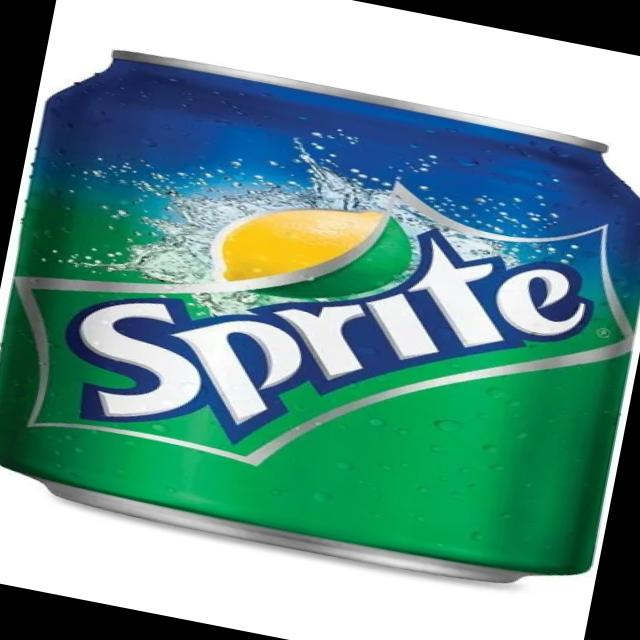sprite: (0, 18, 640, 640), (0, 36, 640, 601)
